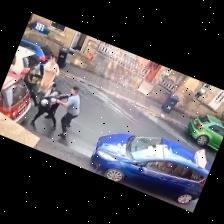person: (31, 92, 69, 130), (57, 87, 80, 138), (39, 57, 59, 94), (24, 67, 42, 106), (45, 82, 61, 96)
